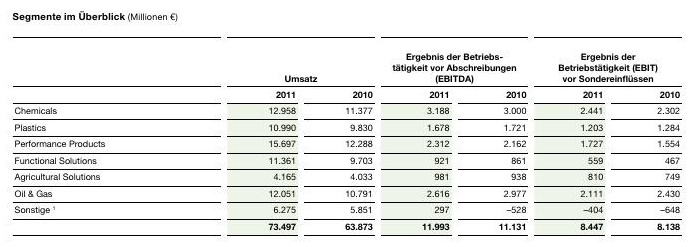table: (0, 0, 695, 247)
